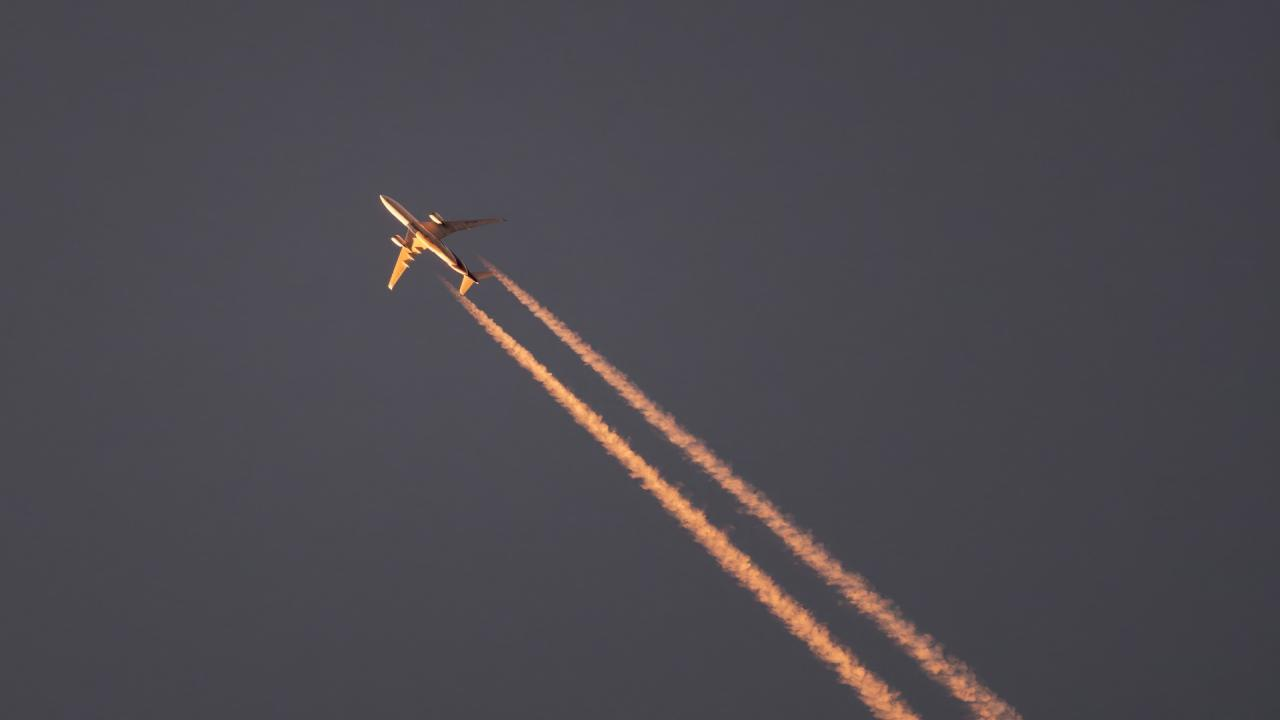Airplane: (354, 183, 518, 304)
